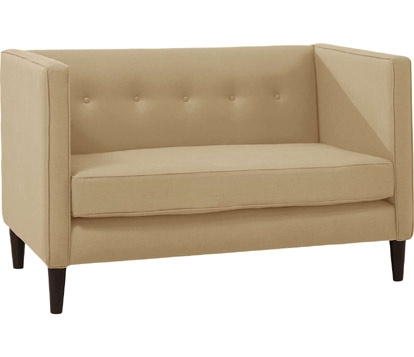chairs: (3, 43, 414, 314)
